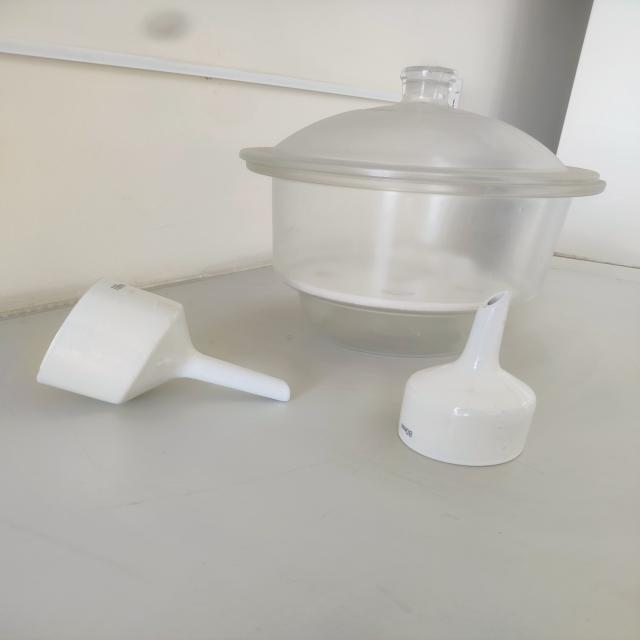Buchner_Funnel: (11, 264, 330, 422), (382, 268, 564, 491)
